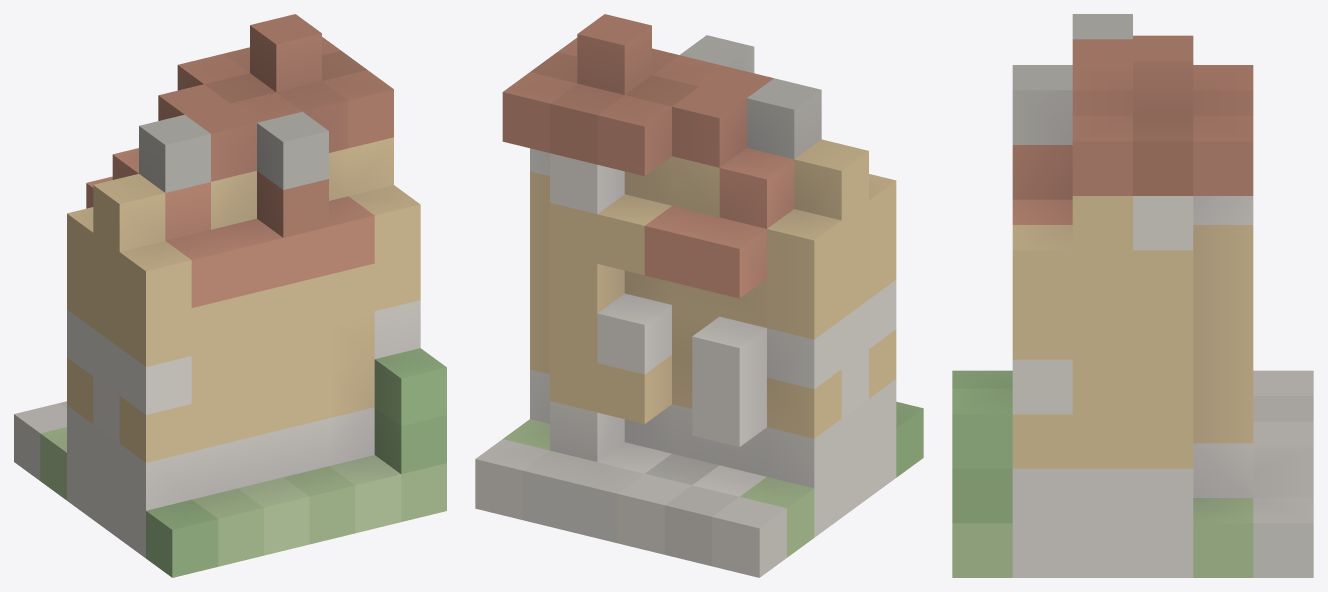
The model's file is house_patricians.v0.lite.glb.
3 renders of one model, left to right at view 1: azimuth 30°, elevation 25°; view 2: azimuth 150°, elevation 25°; view 3: azimuth 270°, elevation 25°, orthographic. The views are drawn at different scales.
Parts seen in each view (by area): view 1: house_patricians; view 2: house_patricians; view 3: house_patricians.
Part boxes in pixels (x1,y1,x2,y2): house_patricians: [14, 14, 446, 577]; house_patricians: [475, 14, 923, 577]; house_patricians: [952, 14, 1313, 577].
Size of the model in its own units: 3 by 4.5 by 3.
